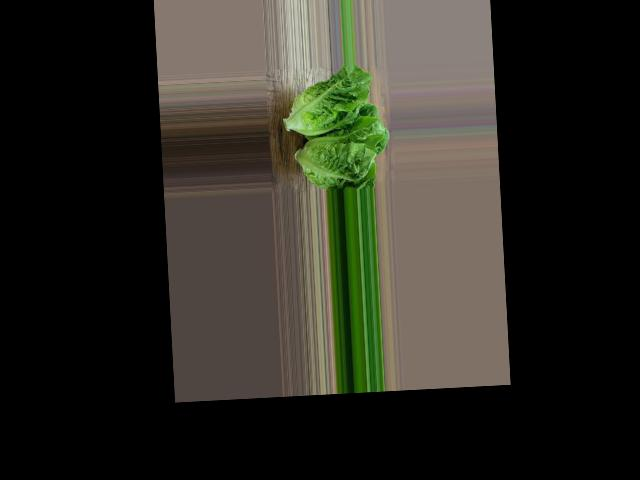lettuce: (292, 75, 385, 190)
